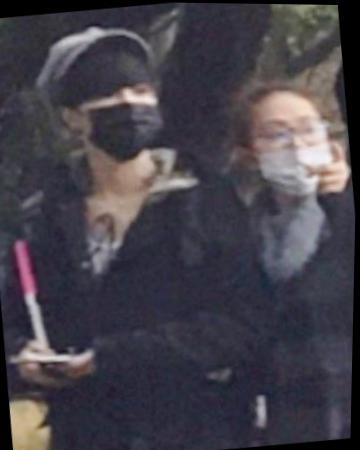OK: (80, 76, 168, 164)
WRONG: (243, 108, 338, 196)
